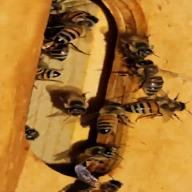Bee: (63, 139, 136, 192), (120, 62, 176, 95), (120, 98, 191, 123), (92, 98, 130, 136), (50, 26, 92, 48)
